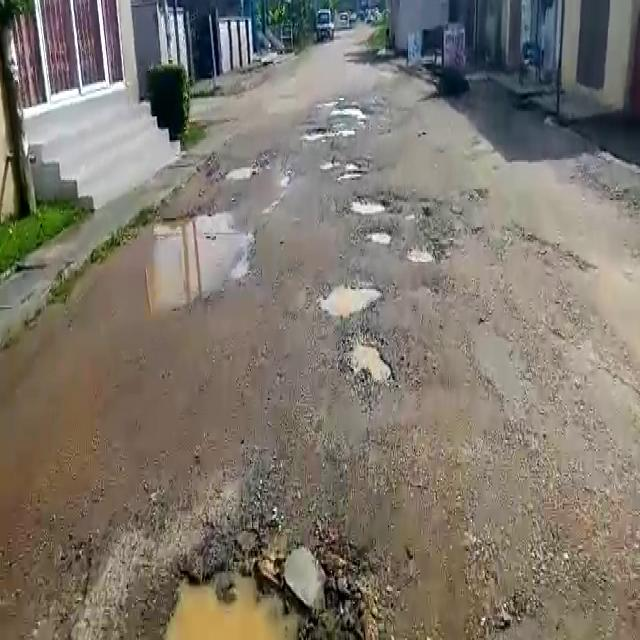Pothole: (85, 214, 255, 322), (158, 545, 316, 640), (340, 329, 392, 394), (316, 280, 385, 319), (326, 156, 374, 179), (404, 236, 436, 267), (305, 123, 357, 141), (349, 196, 392, 217), (222, 160, 260, 180), (328, 101, 373, 117), (364, 228, 396, 244)
